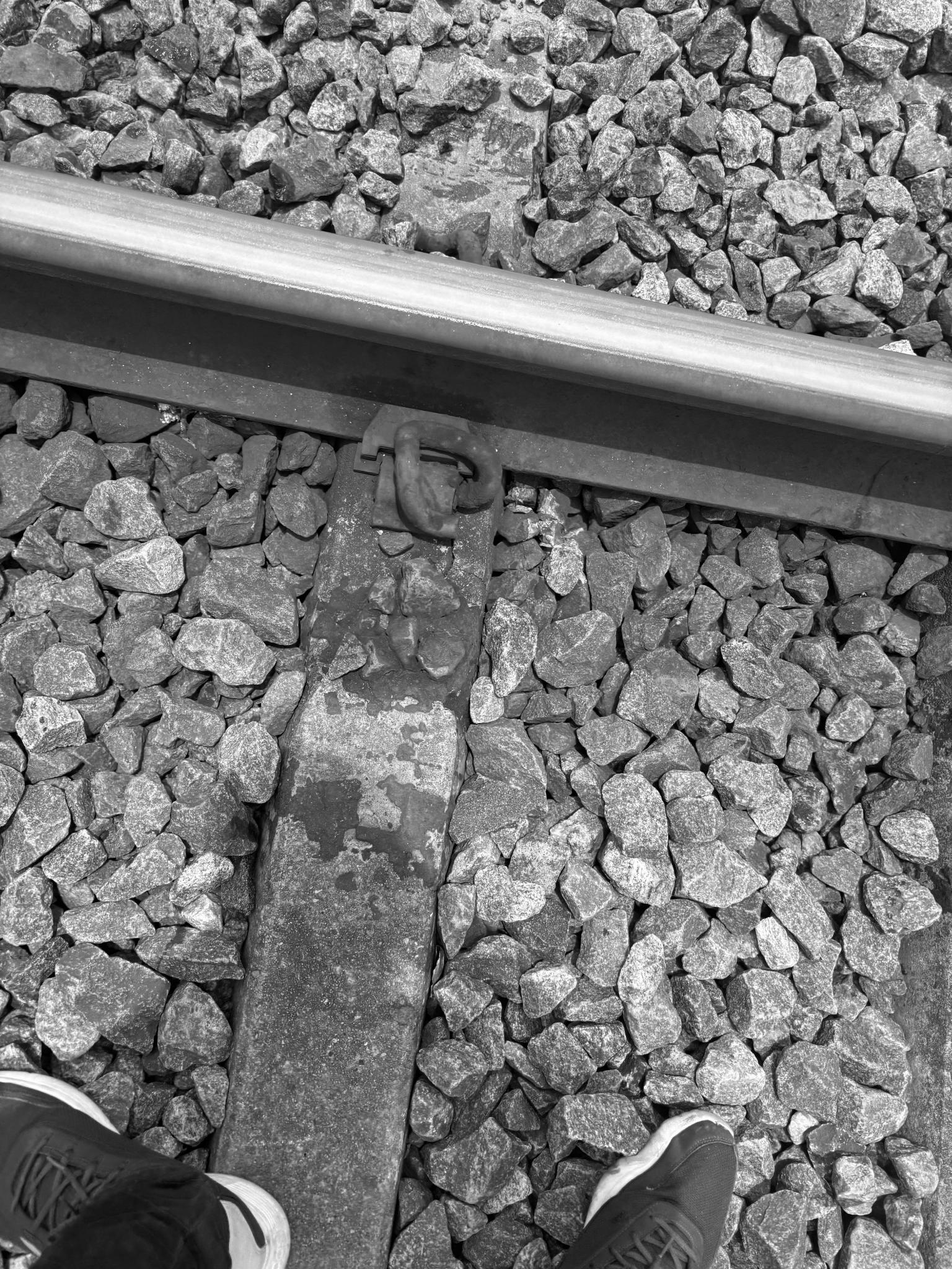cracks under rail seat: (422, 532, 496, 611)
